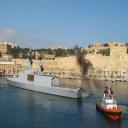Fragata: (6, 39, 85, 101)
